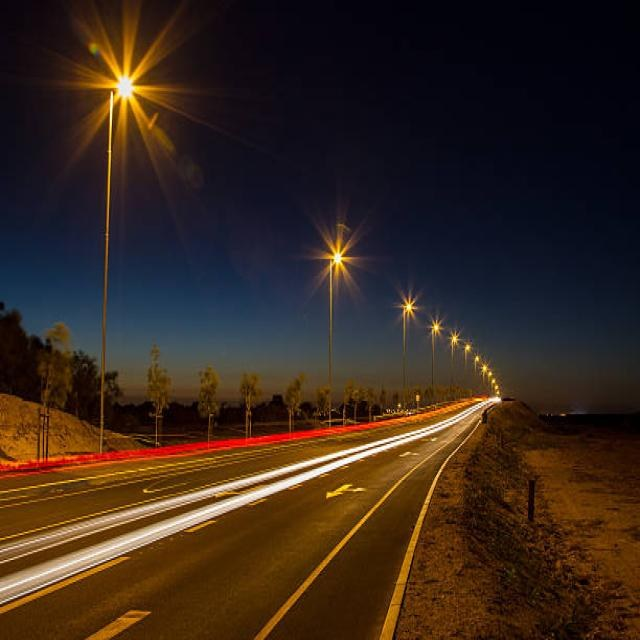acesa: (89, 34, 156, 142), (320, 228, 357, 282)
